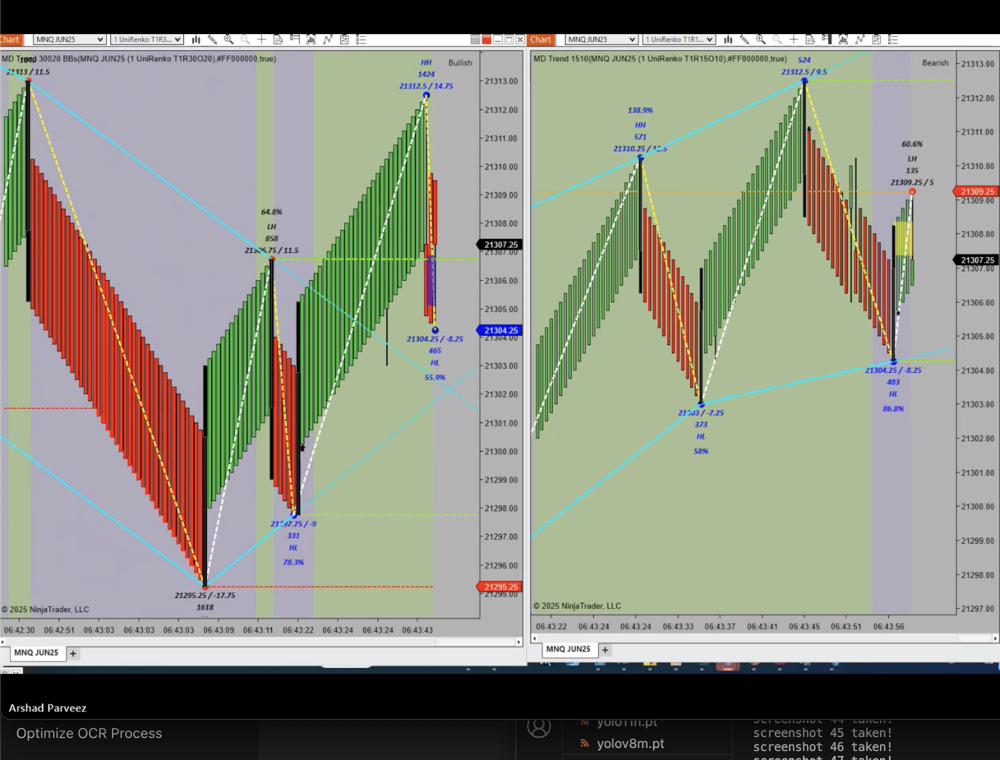HH: (629, 117, 654, 136), (413, 53, 440, 70)
HL: (691, 426, 713, 450), (424, 353, 448, 372), (881, 385, 903, 402), (280, 540, 304, 555)
LH: (902, 151, 924, 166), (262, 219, 281, 236)
